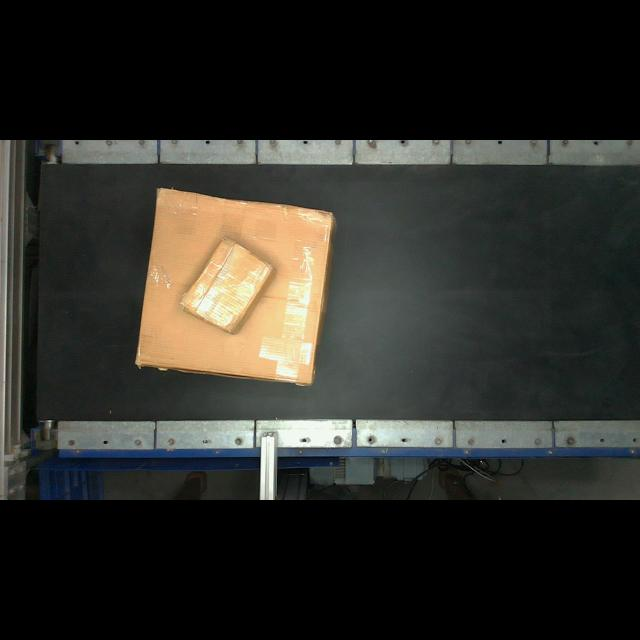box: (136, 189, 334, 384), (180, 236, 273, 333)
